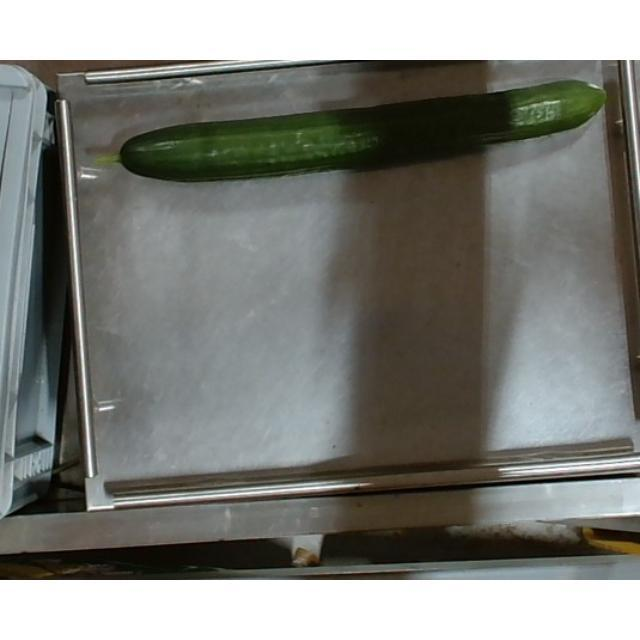cucumber: (90, 79, 608, 183)
